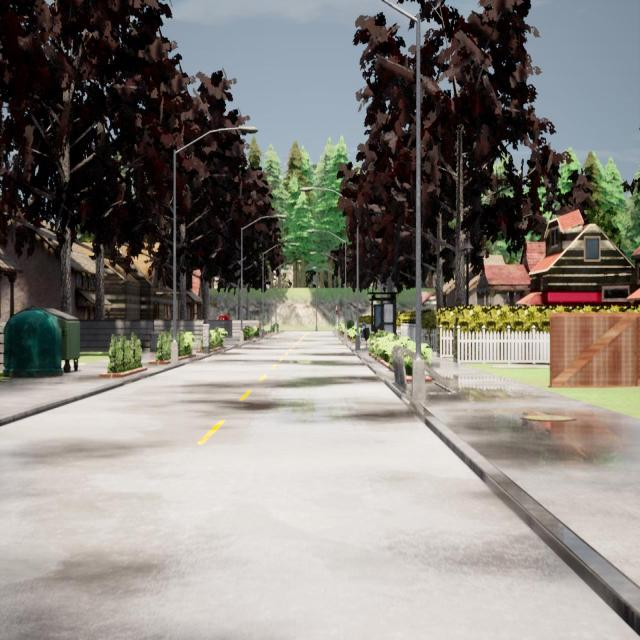traffic_light: (336, 306, 338, 314)
